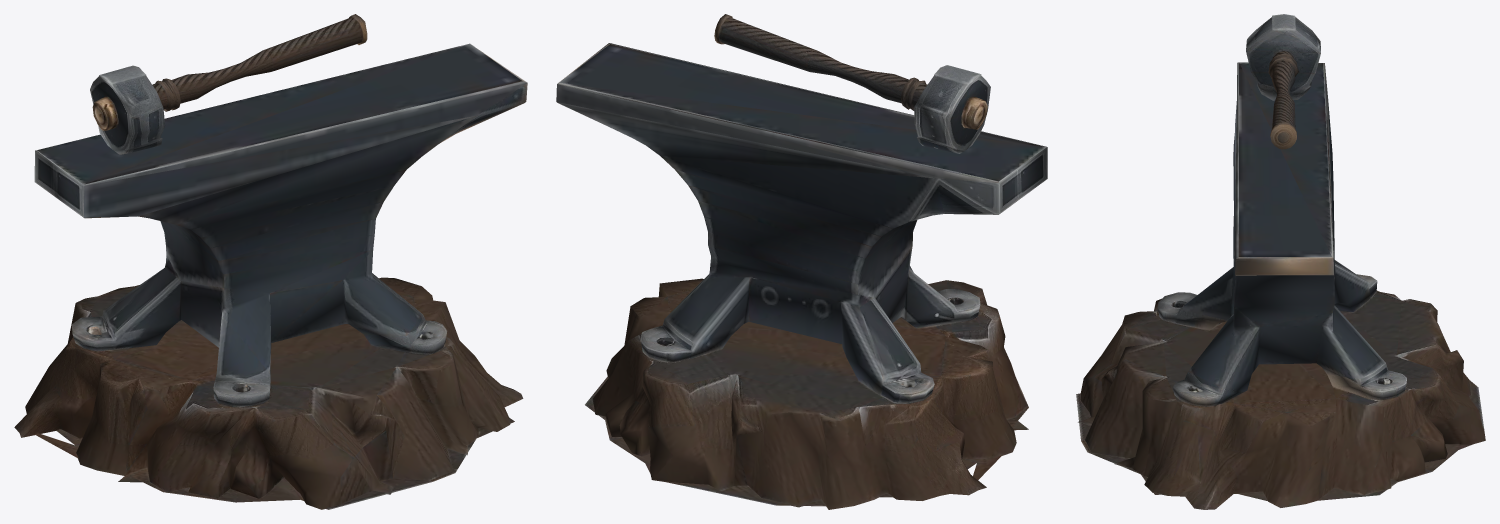
Rendered from anvil.glb.
3 renders of one model, left to right at view 1: azimuth 30°, elevation 25°; view 2: azimuth 150°, elevation 25°; view 3: azimuth 270°, elevation 25°, orthographic. The views are drawn at different scales.
Size of the model in its own units: 0.9077 by 0.7363 by 0.813.
Materials: 1 (1 with a texture image).
